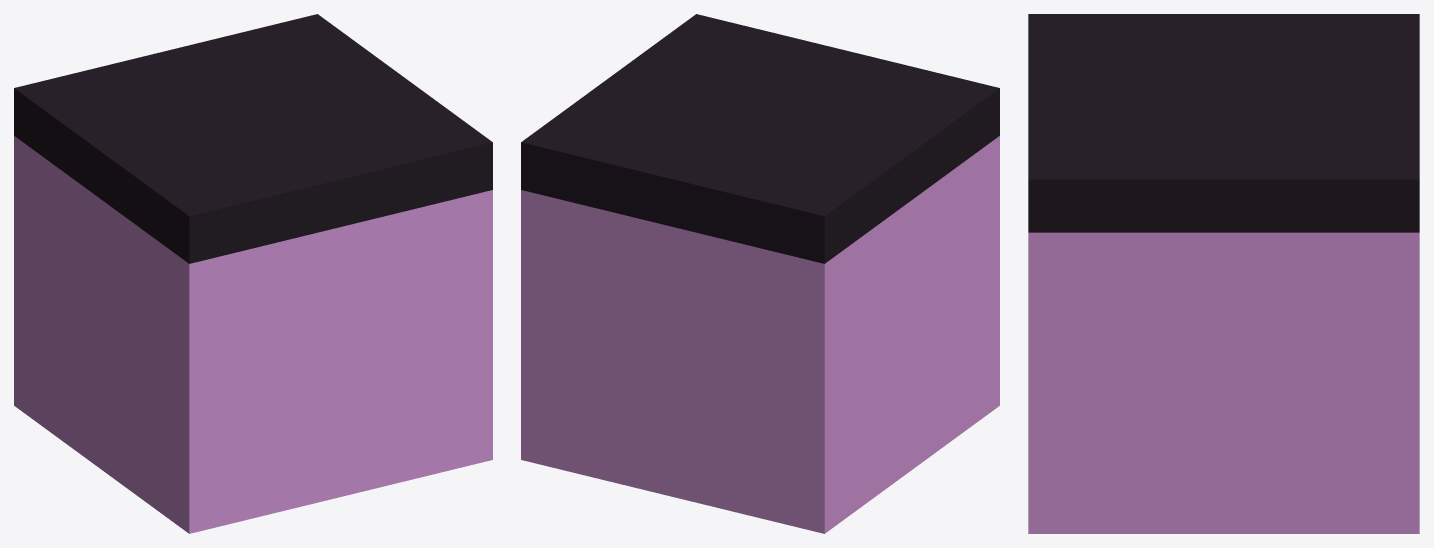
File: Counter_top_11.fbx
The picture shows the model from 3 angles, left to right: view 1: azimuth 30°, elevation 25°; view 2: azimuth 150°, elevation 25°; view 3: azimuth 270°, elevation 25°; orthographic projection. The views are drawn at different scales.
Visible parts, largest first — view 1: Counter top 11; view 2: Counter top 11; view 3: Counter top 11.
Boxes of the visible parts, left/top/right/bottom form: Counter top 11: left=14, top=14, right=492, bottom=533; Counter top 11: left=521, top=14, right=999, bottom=533; Counter top 11: left=1028, top=14, right=1419, bottom=533.
Size of the model in its own units: 206 by 206 by 206.
